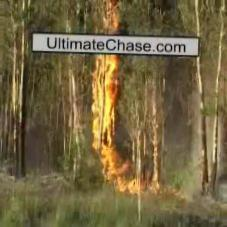fire: (88, 2, 158, 193)
